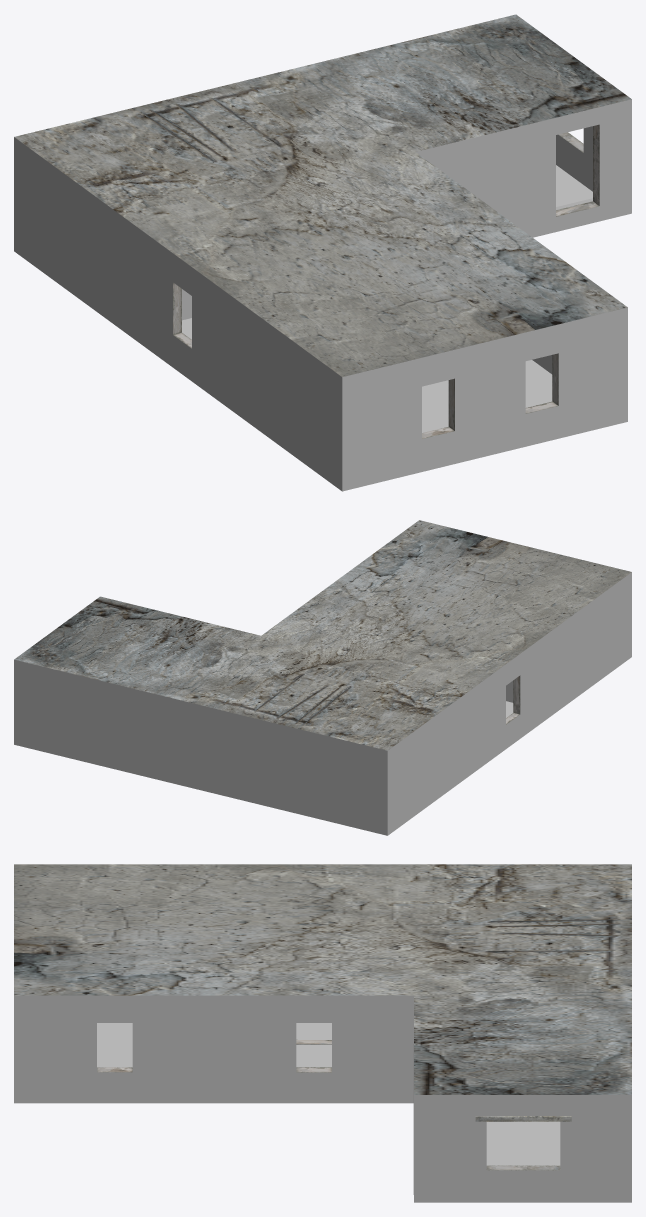
Rendered from Corps_Form_02_7.FBX.
3 views of the same model, one above another, from view 1: azimuth 30°, elevation 25°; view 2: azimuth 150°, elevation 25°; view 3: azimuth 270°, elevation 25° (orthographic). The views are drawn at different scales.
Visible parts, largest first — view 1: Corps_02_7; view 2: Corps_02_7; view 3: Corps_02_7.
Boxes of the visible parts, x1=… form: Corps_02_7: x1=14, y1=14, x2=631, y2=491; Corps_02_7: x1=14, y1=520, x2=631, y2=835; Corps_02_7: x1=14, y1=864, x2=631, y2=1202.
Bounding box in the file's own units: 1431 × 1614 × 310.
